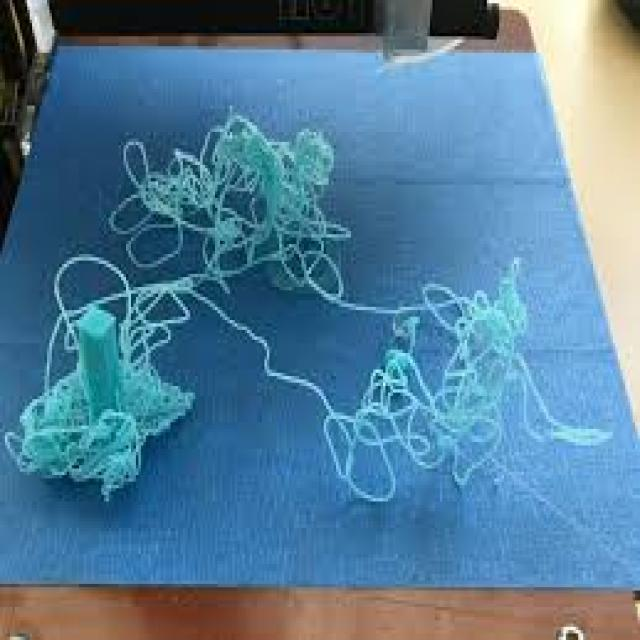spaghetti: (293, 245, 624, 462), (110, 83, 370, 292), (26, 269, 187, 476)
